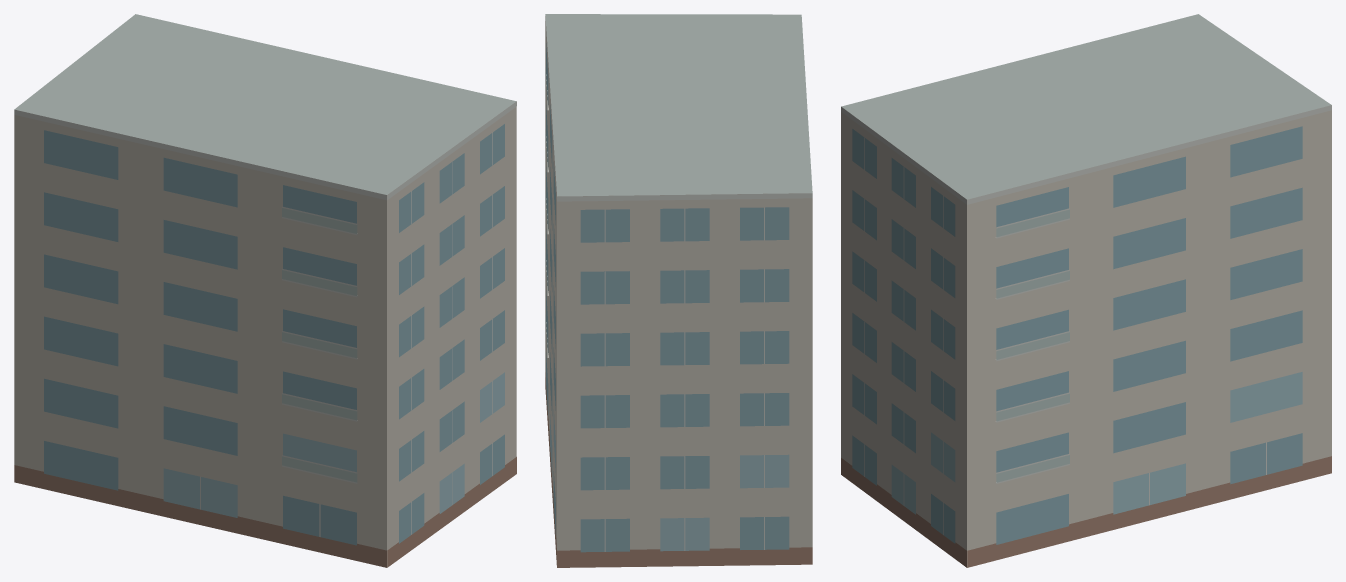
File: survey-upis-32993626.glb
3 views of the same model, side by side, from view 1: azimuth 30°, elevation 25°; view 2: azimuth 150°, elevation 25°; view 3: azimuth 270°, elevation 25° (orthographic).
Visible parts, largest first — view 1: survey-upis-32993626.tmp; view 2: survey-upis-32993626.tmp; view 3: survey-upis-32993626.tmp.
Boxes of the visible parts, left/top/right/bottom form: survey-upis-32993626.tmp: left=14, top=14, right=516, bottom=567; survey-upis-32993626.tmp: left=545, top=14, right=812, bottom=567; survey-upis-32993626.tmp: left=841, top=14, right=1331, bottom=567.
Bounding box in the file's own units: 18.8 × 17.37 × 20.99.
